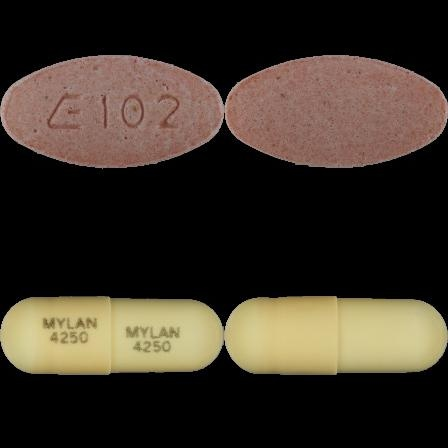49999-183: (0, 0, 224, 224)
